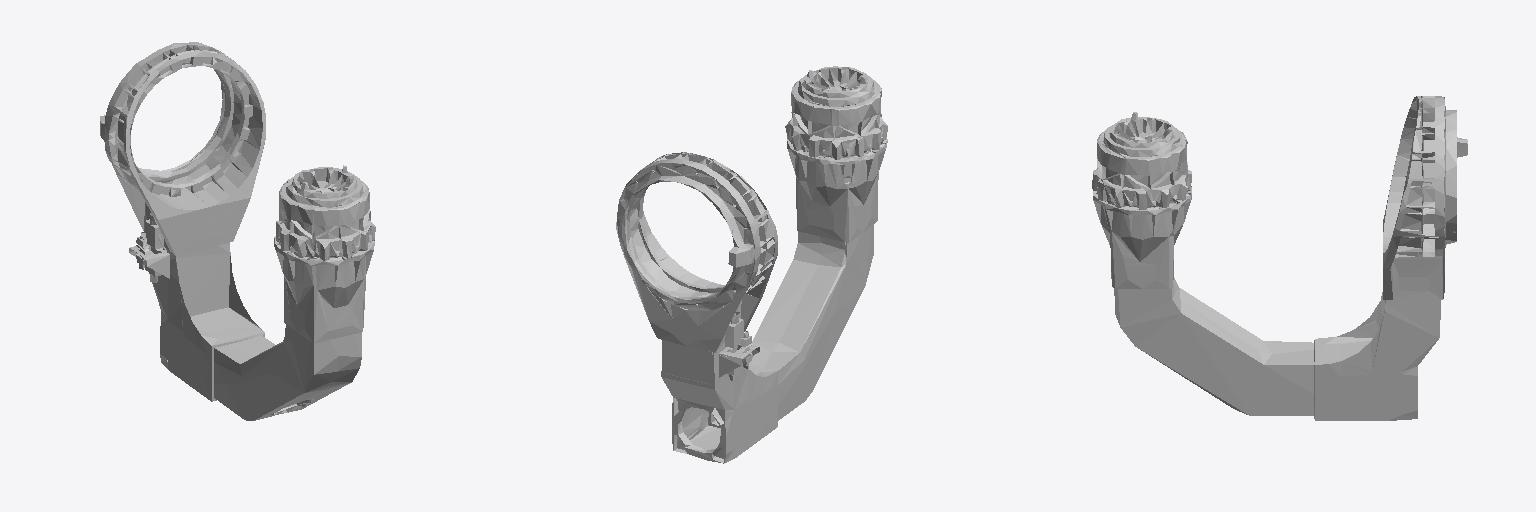
Rendered from Steer_RightRear.obj.
3 views of the same model, side by side, from view 1: azimuth 30°, elevation 25°; view 2: azimuth 150°, elevation 25°; view 3: azimuth 270°, elevation 25° (orthographic).
Visible parts, largest first — view 1: Steer_RightRear.obj; view 2: Steer_RightRear.obj; view 3: Steer_RightRear.obj.
Boxes of the visible parts, x1=… form: Steer_RightRear.obj: x1=100, y1=42, x2=375, y2=420; Steer_RightRear.obj: x1=616, y1=66, x2=887, y2=463; Steer_RightRear.obj: x1=1092, y1=96, x2=1467, y2=420.
Bounding box in the file's own units: 0.2089 × 0.4329 × 0.4854.